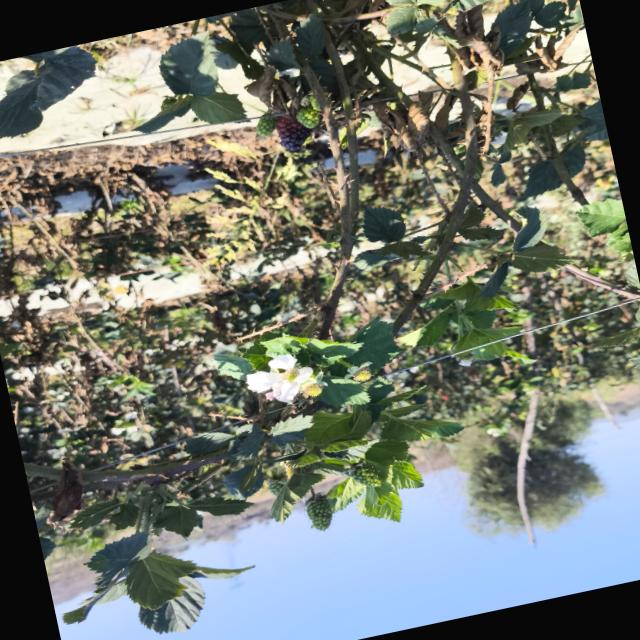flor: (246, 354, 313, 402)
